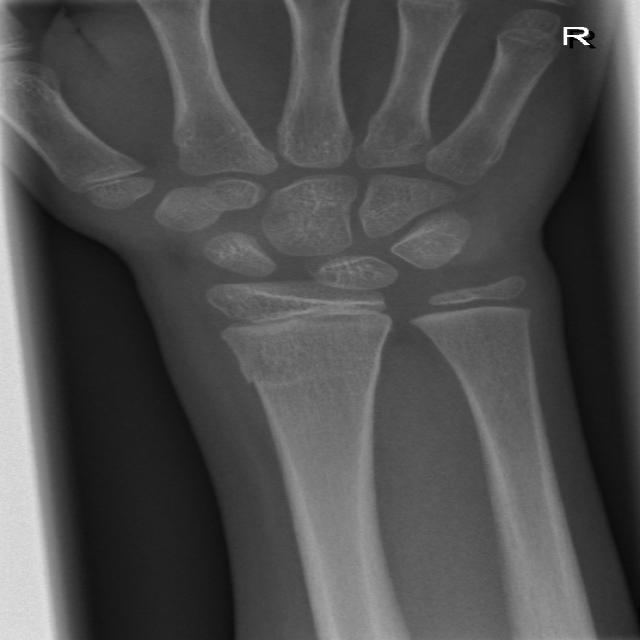radius fracture: (204, 348, 429, 461)
